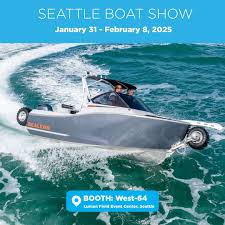boat: (15, 75, 209, 158)
